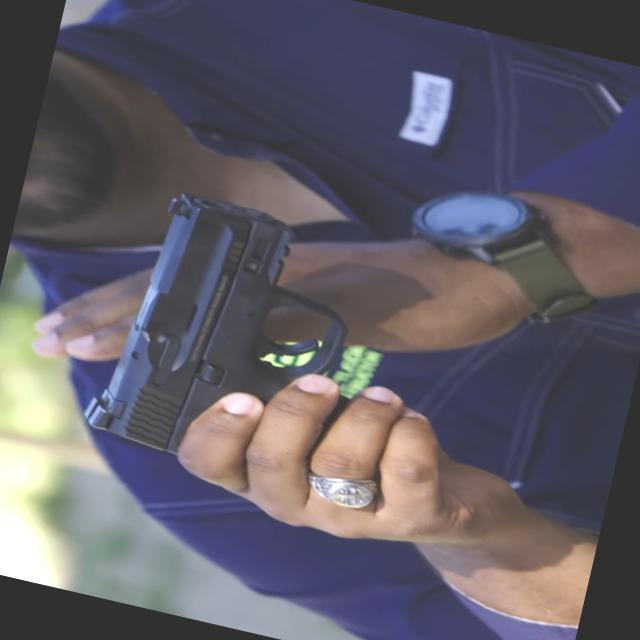handgun: (83, 163, 431, 513)
